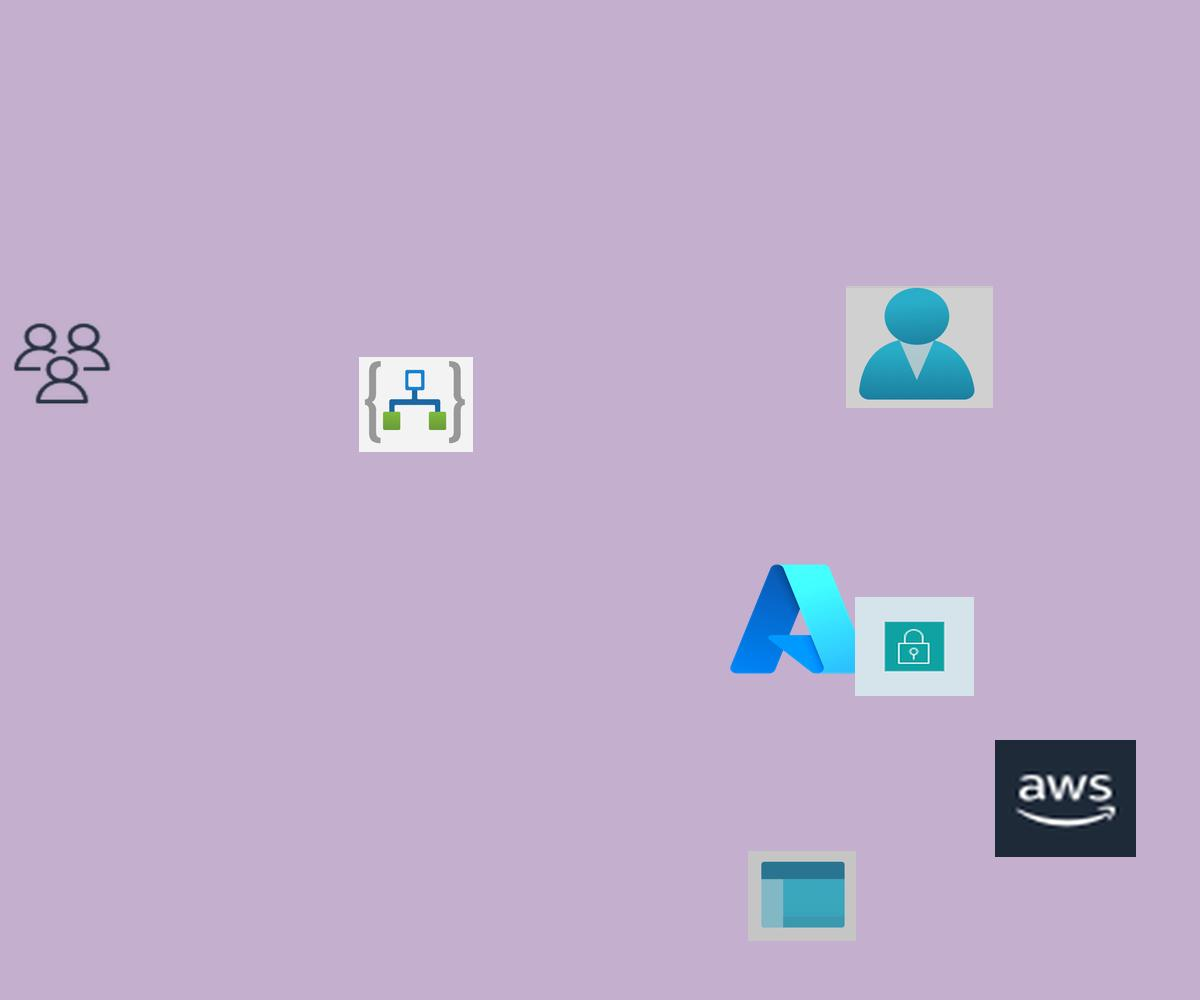AWS-Cloud-logo: (995, 740, 1136, 857)
AWS-Private-subnet: (855, 597, 974, 696)
AWS-Res_Users: (10, 320, 114, 407)
Azure_integration-204-Logic-Apps: (359, 357, 473, 452)
Azure_management-portal: (748, 851, 856, 941)
Azure_services: (724, 556, 876, 682)
Azure_users: (846, 286, 993, 408)
